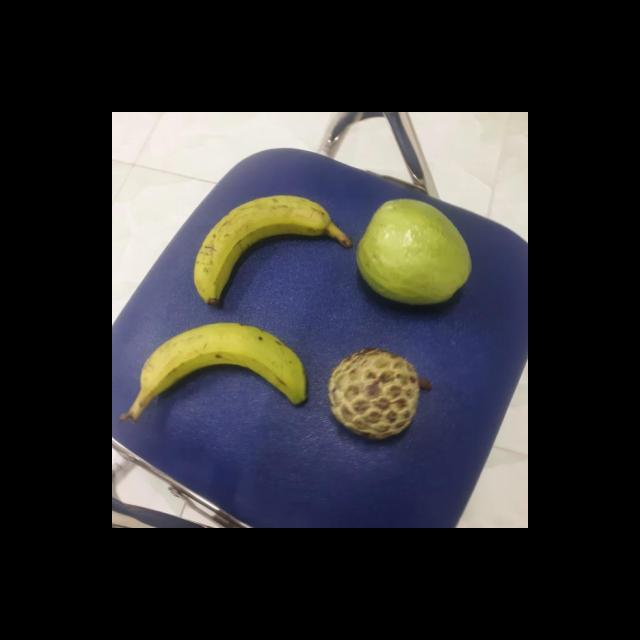Sakya fruit: (330, 348, 430, 439)
banana: (195, 196, 359, 308), (140, 323, 316, 415)
guava: (354, 197, 472, 307)
